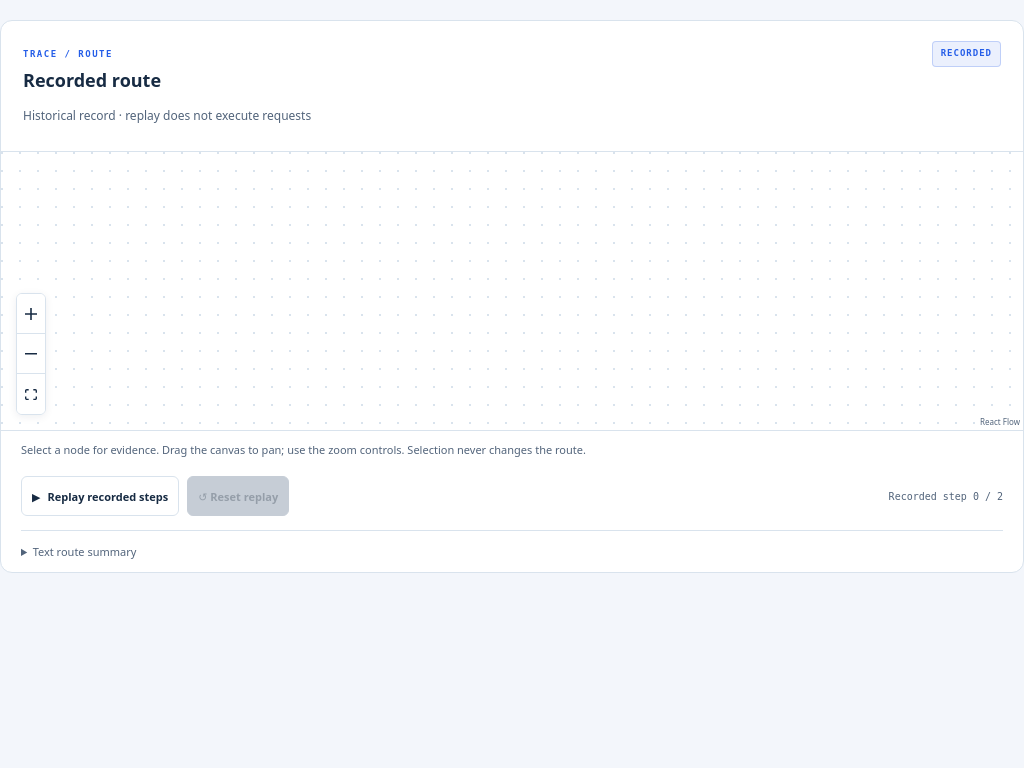
Test: route topology interaction › starts only on user action, pauses, resets and stops after its bounded record
Check: the text "Recorded step 0 / 2" is shown, box [889,489,1003,504]
Click the button "▶ Replay recorded steps". click: (100, 496)
box: [21,476,179,516]
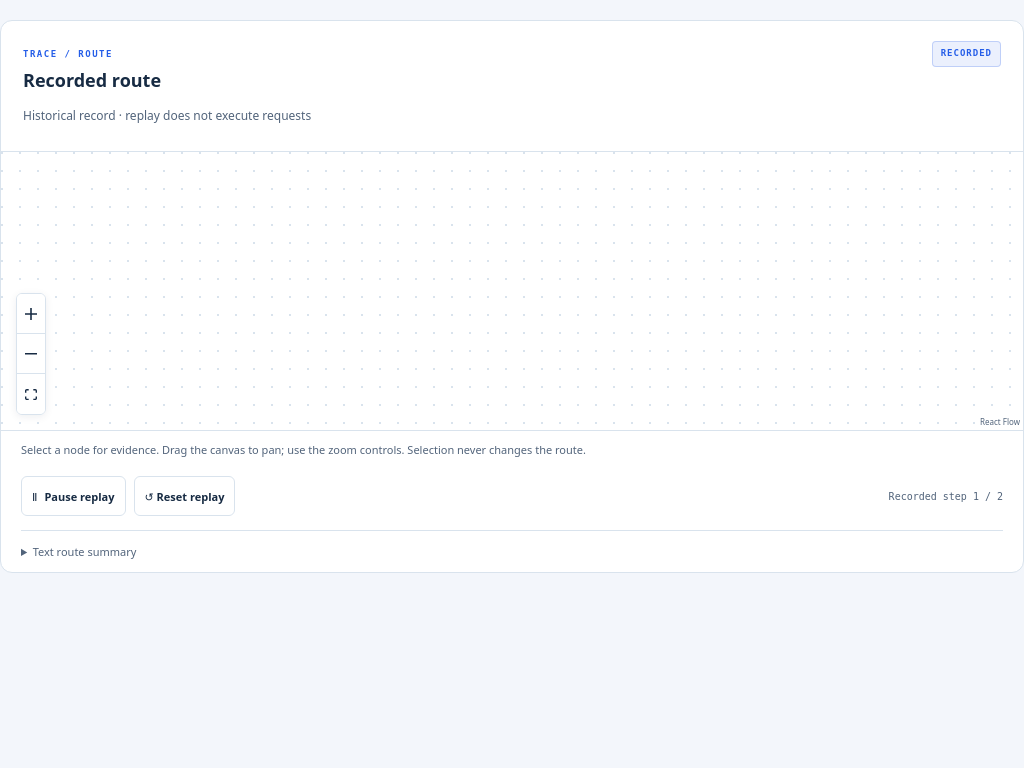
Check: the button "Ⅱ Pause replay" is shown
Check: the text "Recorded step 1 / 2" is shown, box [889,489,1003,504]
Click the button "Ⅱ Pause replay". click: (73, 496)
box: [21,476,126,516]
Wait 5000 ms
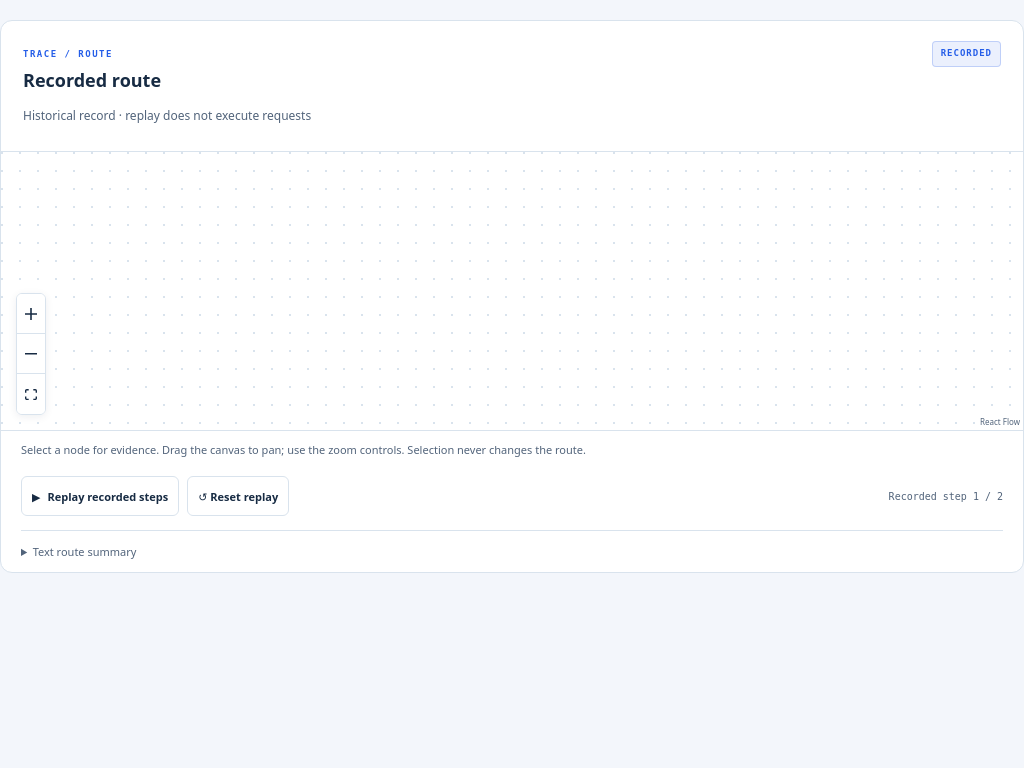
Check: the text "Recorded step 1 / 2" is shown, box [889,489,1003,504]
Click the button "↺ Reset replay". click: (238, 496)
box: [187,476,289,516]
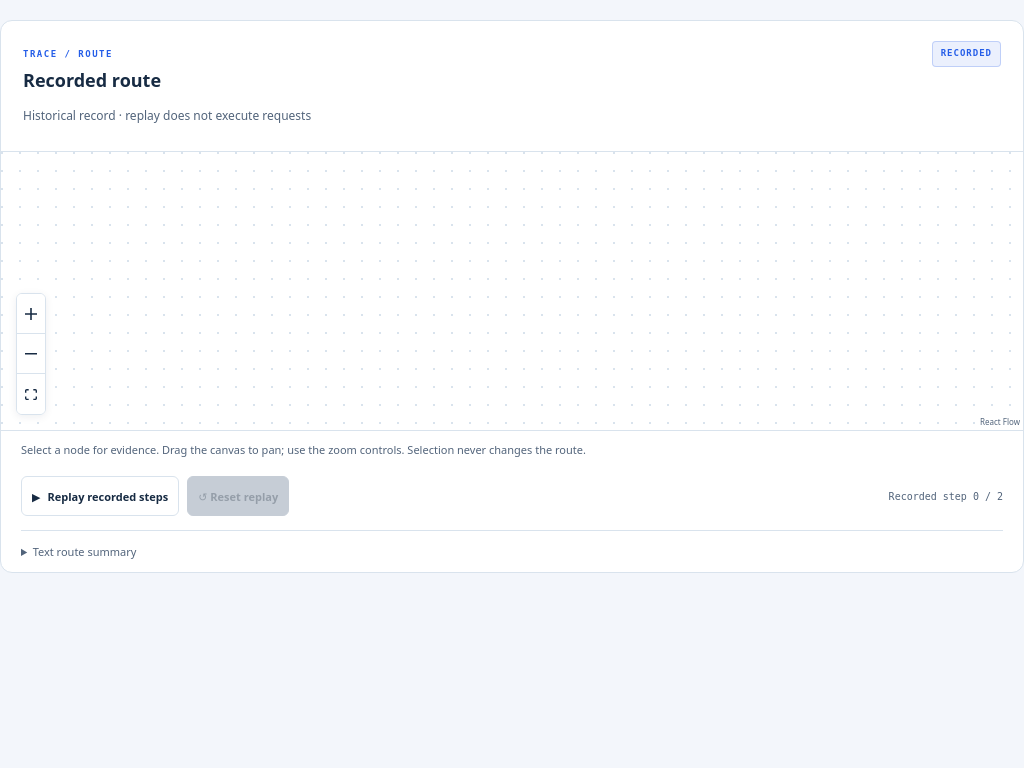
Check: the text "Recorded step 0 / 2" is shown, box [889,489,1003,504]
Click the button "▶ Replay recorded steps". click: (100, 496)
box: [21,476,179,516]
Wait 2300 ms
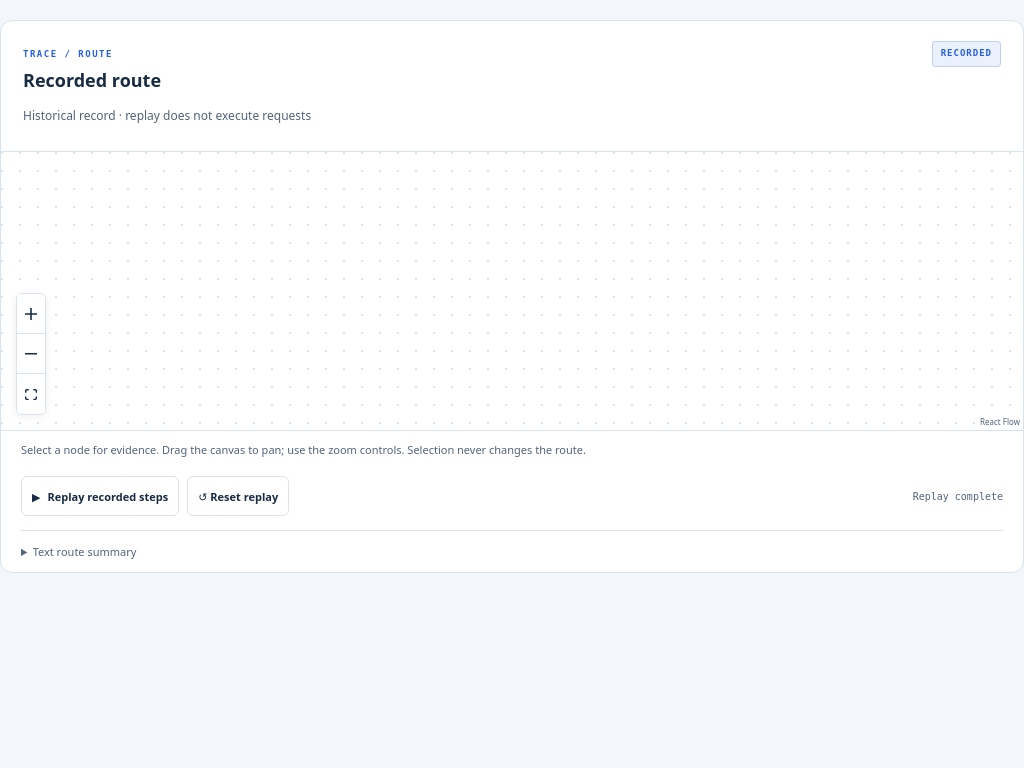
Check: the button "Pause replay" is not shown
Check: the text "Replay complete" is shown, box [913,489,1003,504]
